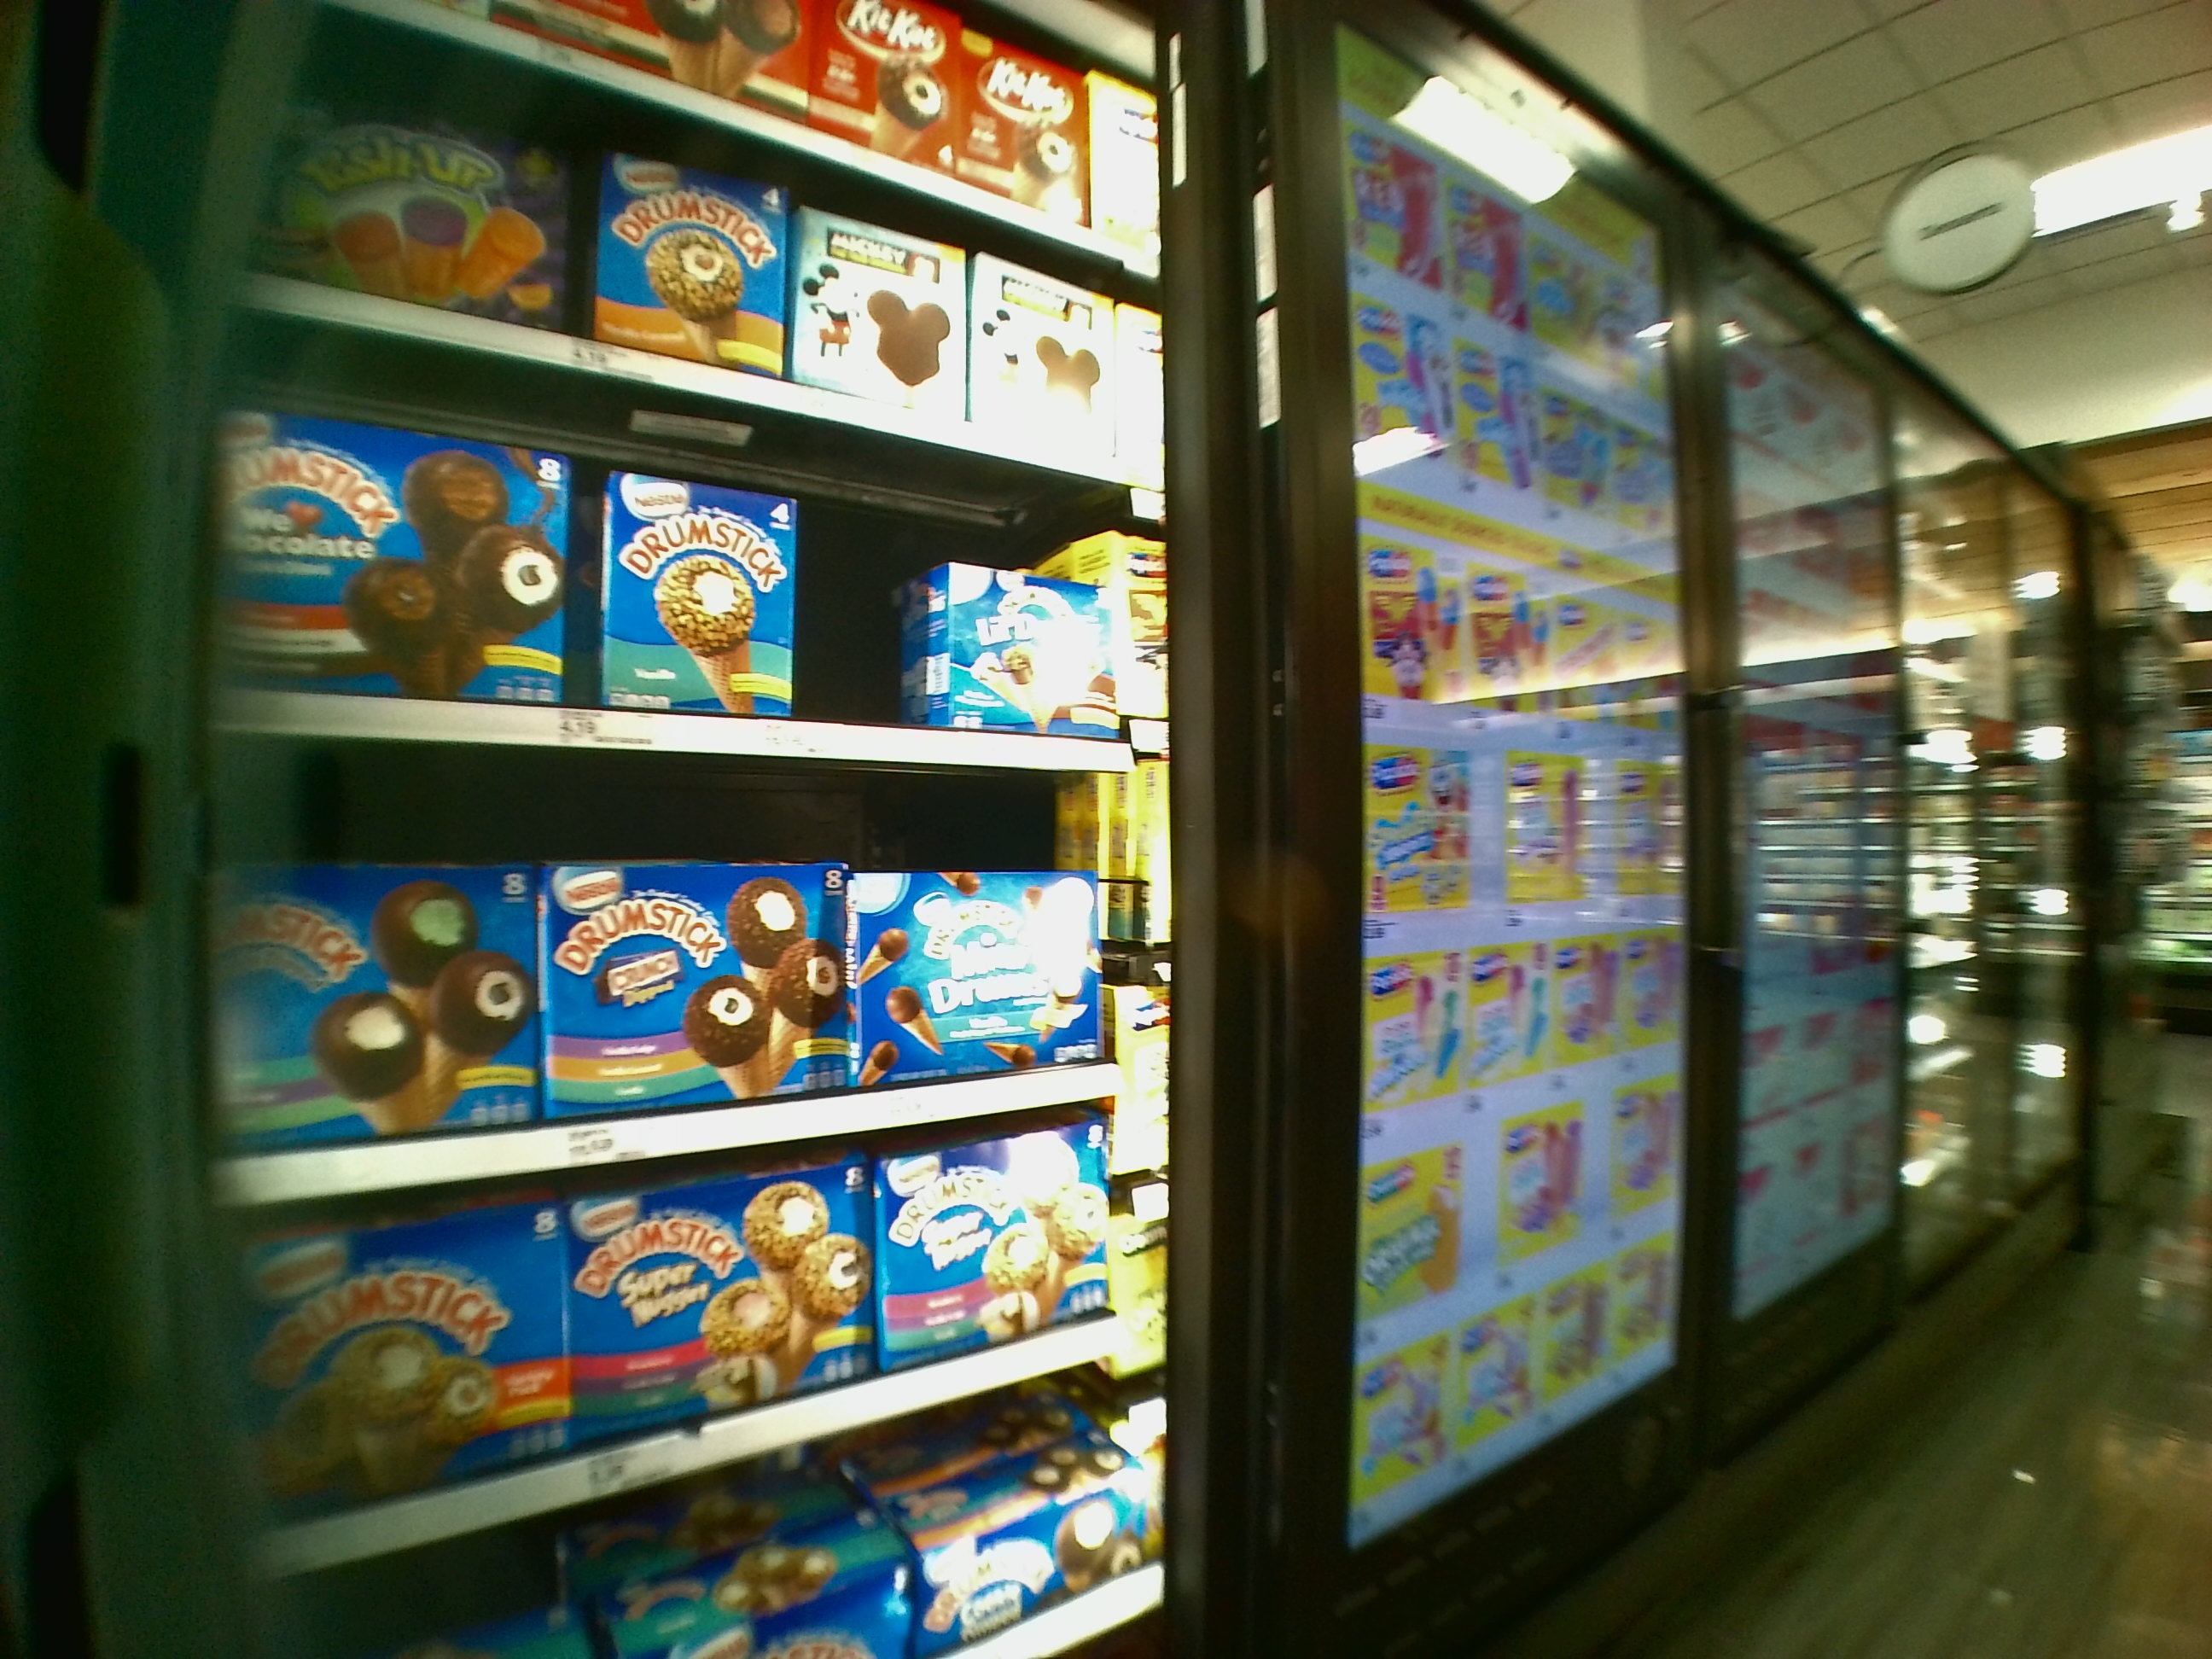shelf: (192, 746, 1163, 1194), (209, 413, 1163, 756), (223, 1117, 1188, 1436)
